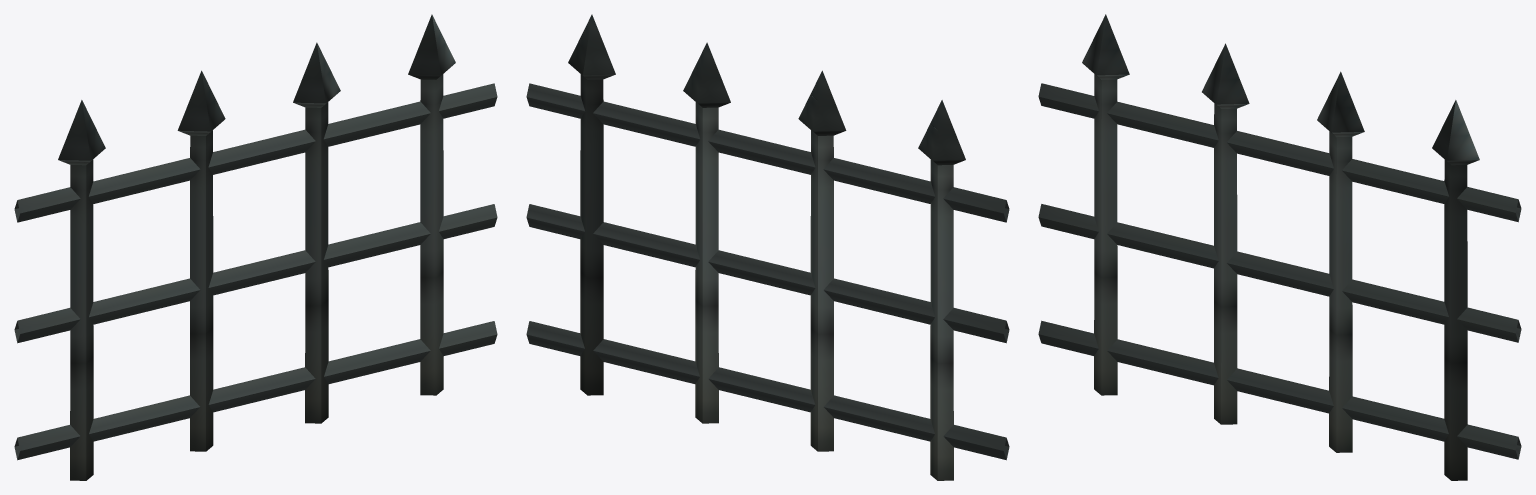
Rendered from metal_fence_2.FBX.
3 views of the same model, side by side, from view 1: azimuth 30°, elevation 25°; view 2: azimuth 150°, elevation 25°; view 3: azimuth 330°, elevation 25° (orthographic).
Visible parts, largest first — view 1: polySurface1745; view 2: polySurface1745; view 3: polySurface1745.
Boxes of the visible parts, x1=… form: polySurface1745: x1=14, y1=14, x2=497, y2=480; polySurface1745: x1=526, y1=14, x2=1009, y2=480; polySurface1745: x1=1038, y1=14, x2=1521, y2=480.
Size of the model in its own units: 67.68 by 4.49 by 51.26.
Materials: 1 (1 with a texture image).
